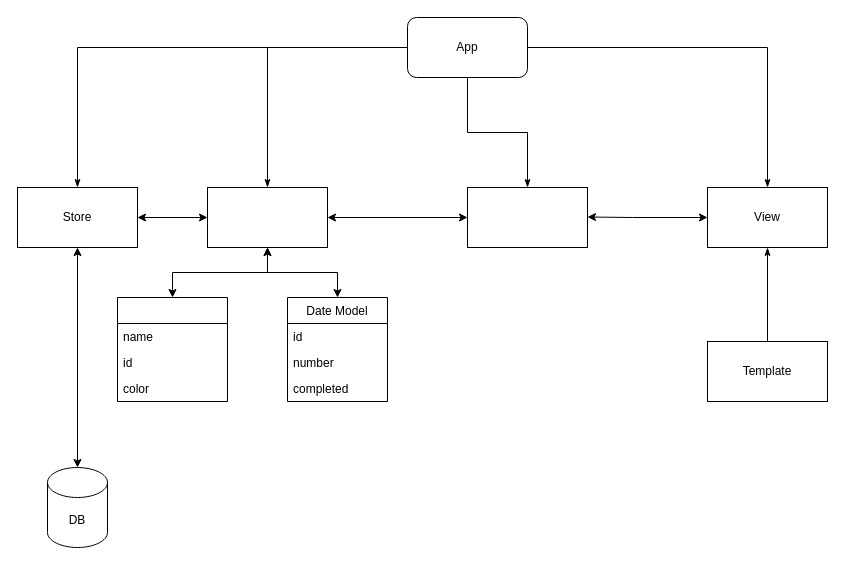
Image size: 845x565. Some labels were removed from this diagram. Here are the shapes that lost their labels. From the top down, the box of each, then its label:
(206, 186, 328, 248): Collection
(466, 186, 588, 248): Controller
(116, 296, 228, 402): Task Model
